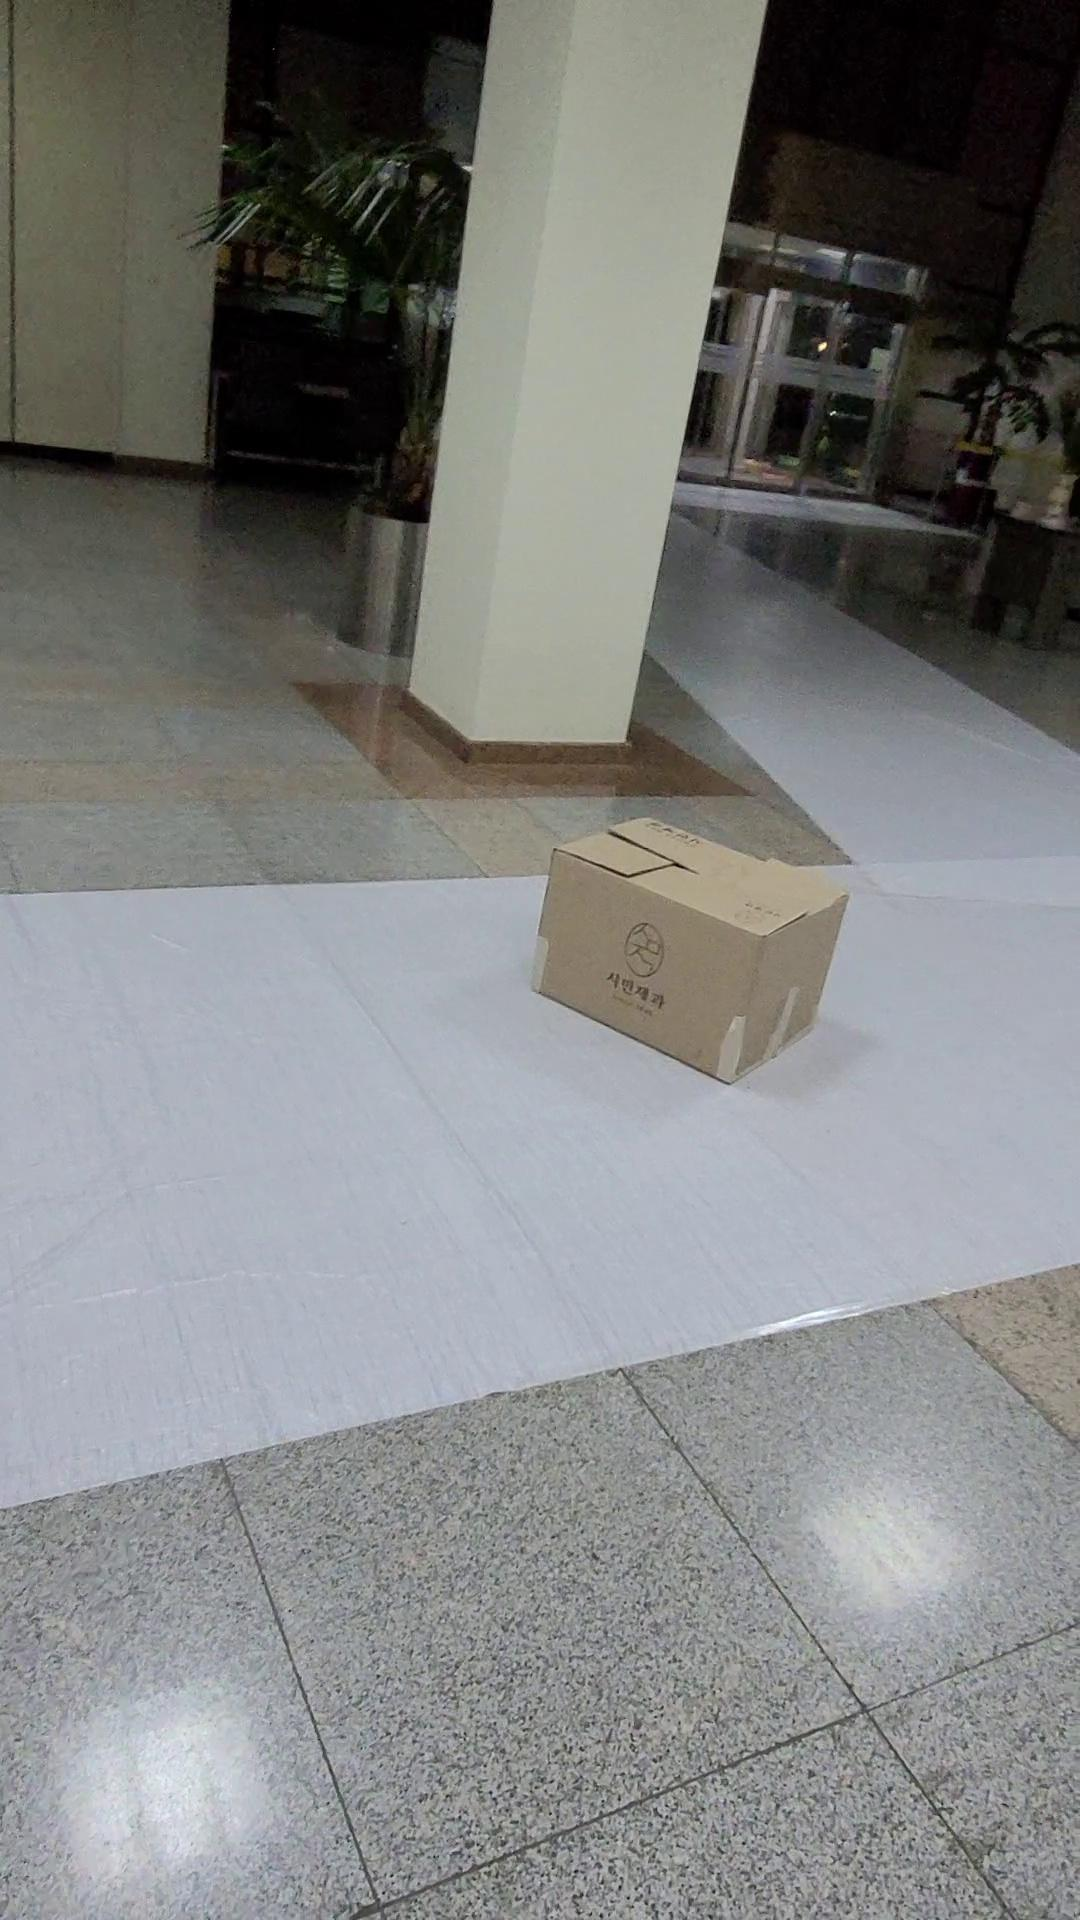Box: (512, 781, 870, 1139)
